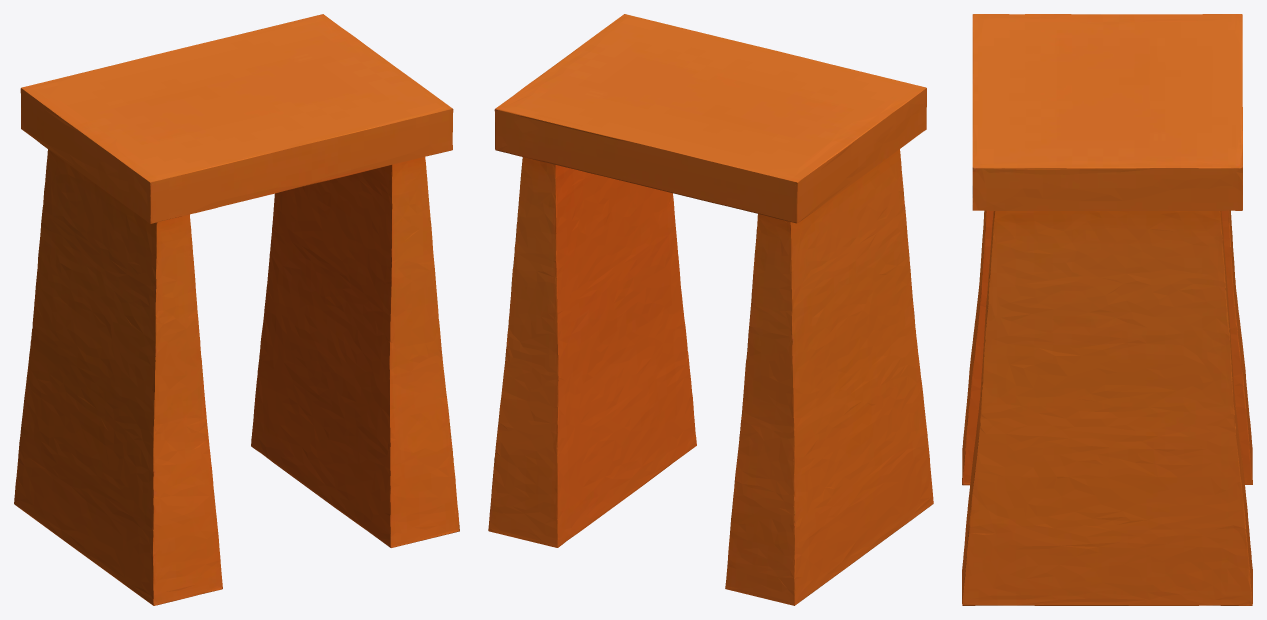
Rendered from 97c930ad-6599-4efe-94ea-f107a86db444.glb.
3 views of the same model, side by side, from view 1: azimuth 30°, elevation 25°; view 2: azimuth 150°, elevation 25°; view 3: azimuth 270°, elevation 25° (orthographic). The views are drawn at different scales.
Parts seen in each view (by area): view 1: world; view 2: world; view 3: world.
Boxes of the visible parts, x1,y1,x2,y2 form: world: (14,14,459,605); world: (488,14,933,605); world: (962,14,1252,605).
Size of the model in its own units: 0.7648 by 1 by 0.603.
1 material, 1 textured.
